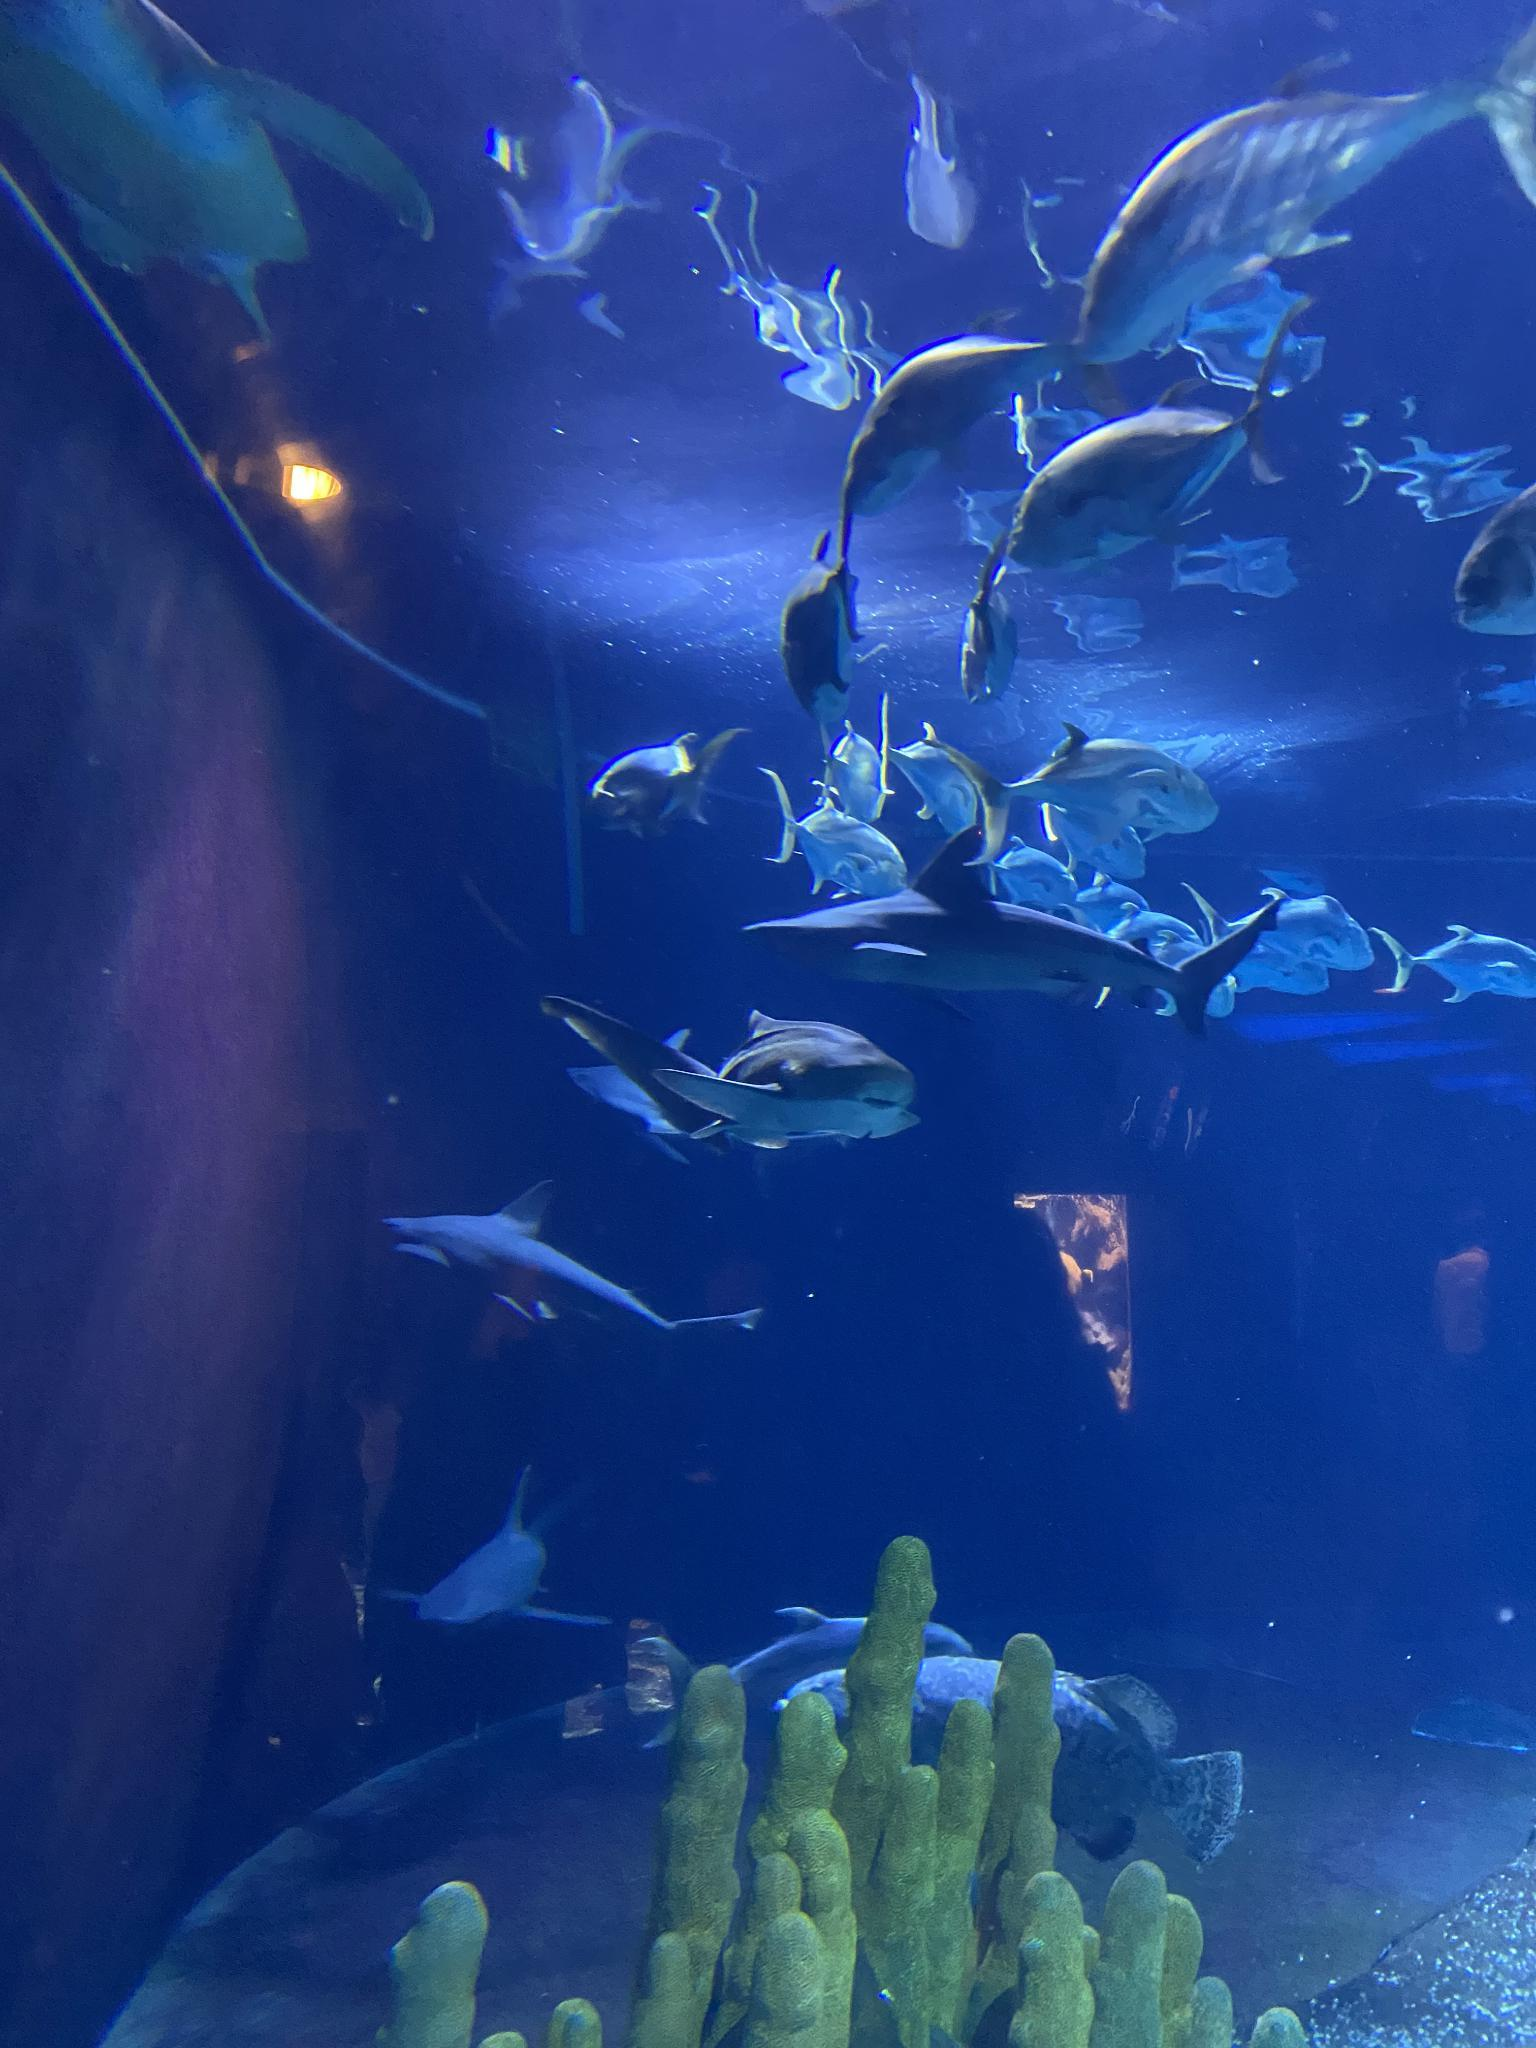fish: (1071, 10, 1535, 368), (773, 1657, 1244, 1861), (1010, 309, 1301, 571), (645, 1601, 975, 1755), (840, 334, 1037, 539), (933, 728, 1201, 830), (759, 768, 906, 902), (1184, 884, 1329, 1002), (593, 729, 738, 831), (789, 536, 863, 733), (876, 721, 980, 843), (1455, 483, 1535, 638), (1376, 928, 1535, 1005), (961, 524, 1019, 704), (1255, 898, 1378, 976), (813, 724, 890, 823), (1044, 818, 1151, 879), (981, 843, 1075, 905), (1050, 875, 1150, 932), (1107, 915, 1200, 969), (1159, 963, 1239, 1017)
shark: (746, 826, 1278, 1044), (385, 1180, 759, 1347), (541, 988, 914, 1152), (382, 1463, 604, 1633)
